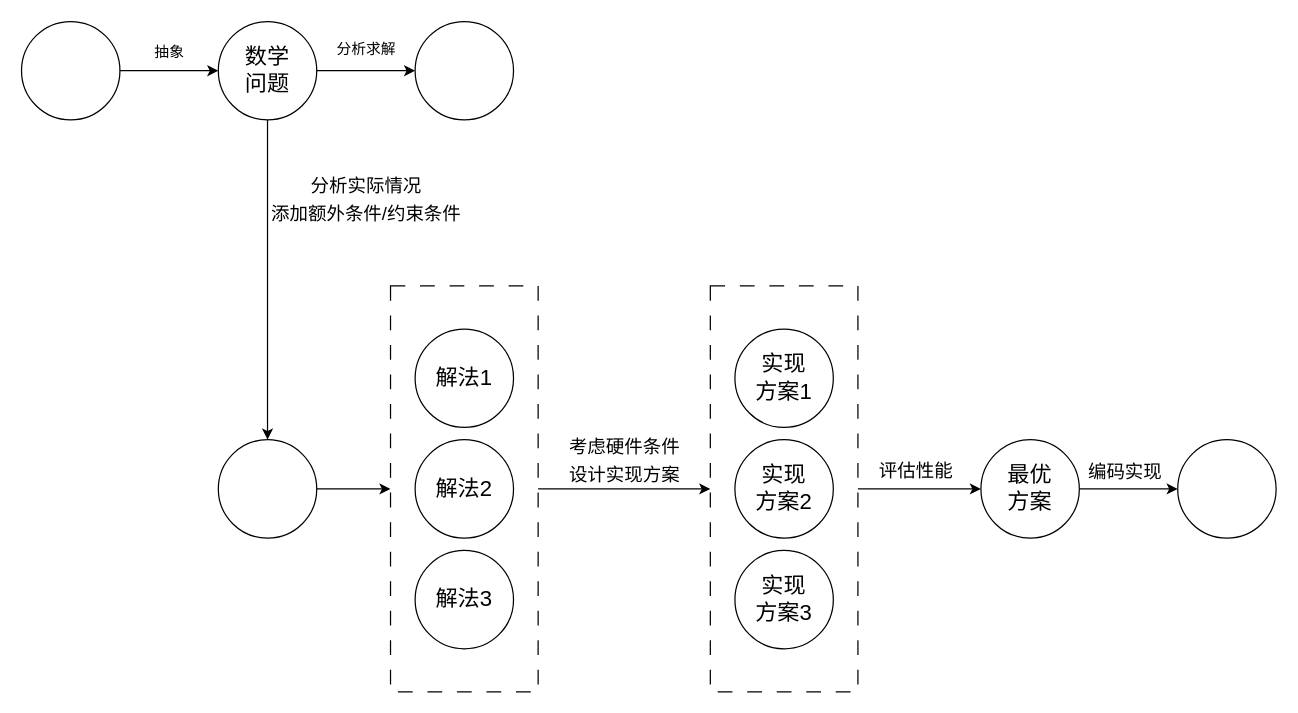
This 1298x713 diagram has some shape labels left out. The centre of each missing label's shape, as x and y in pixels:
代码: point (1226, 488)
新问题模型: point (267, 488)
理论 解法: point (464, 70)
问题: point (70, 70)
